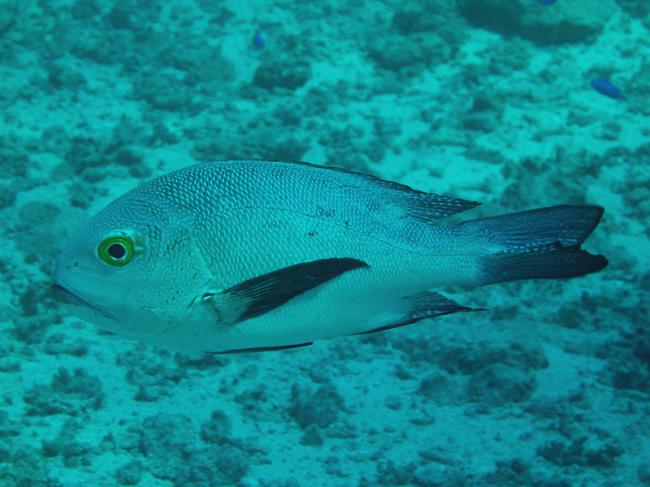fish: (54, 158, 610, 354)
